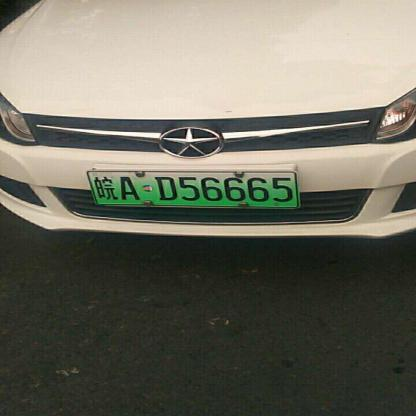lp: (86, 171, 299, 208)
